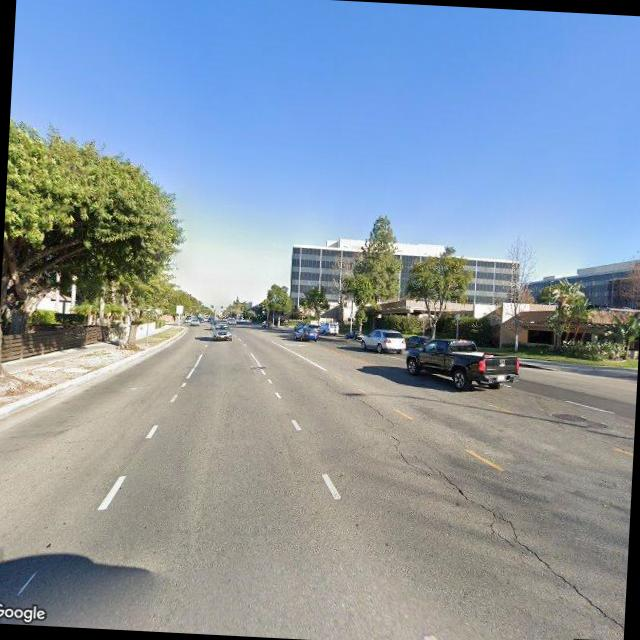pothole: (371, 432, 625, 622), (319, 374, 398, 426)
